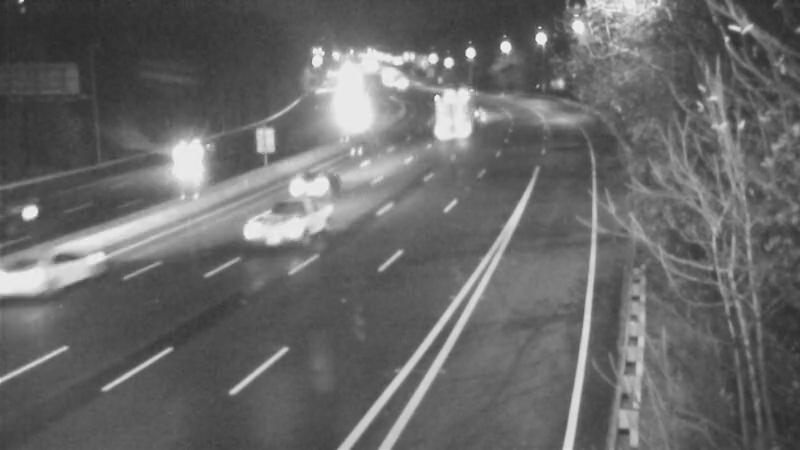vehicle: (267, 141, 347, 221), (226, 194, 306, 274), (148, 113, 228, 193), (1, 235, 77, 315), (1, 173, 75, 253), (409, 88, 459, 138)
